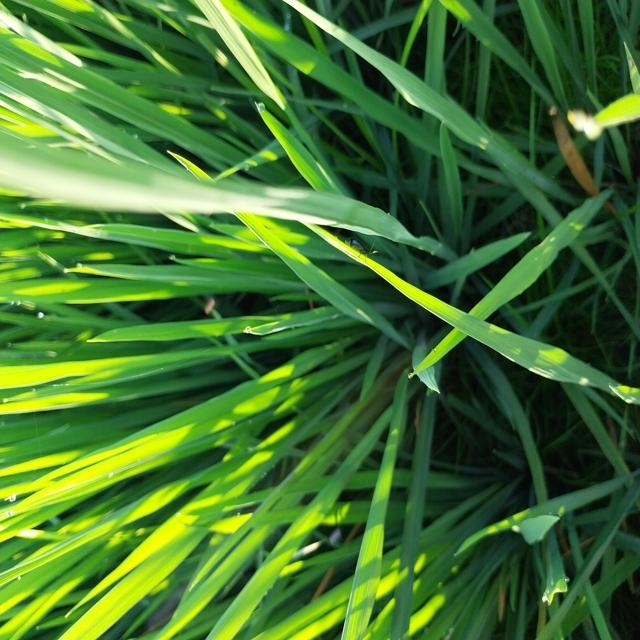Brown spot: (518, 98, 634, 214)
